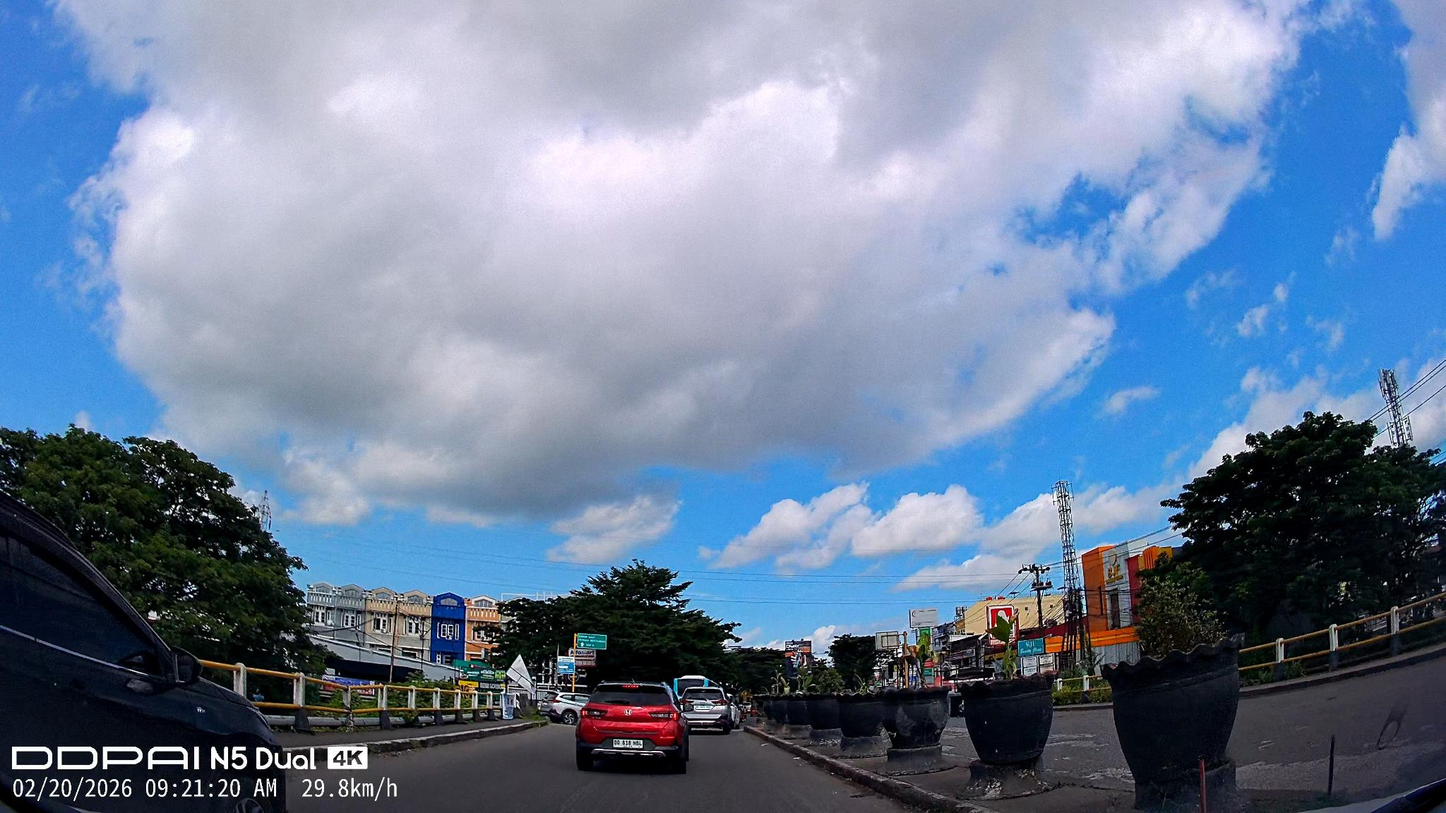rambu_teks: (577, 633, 607, 649)
